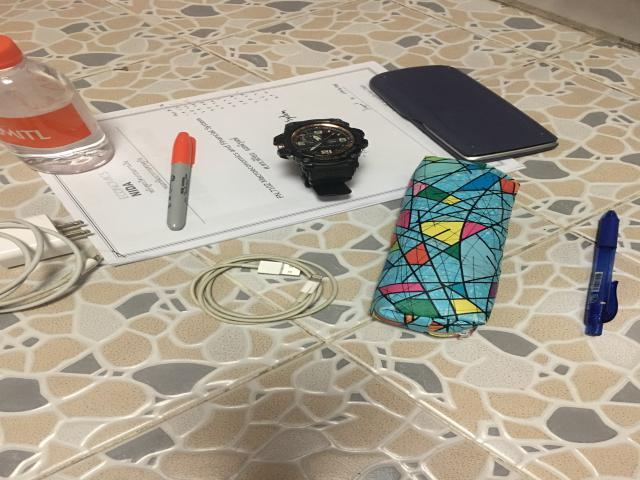Pen: (167, 132, 195, 231)
Watch: (273, 118, 368, 196)
bottle: (0, 36, 113, 173)
paper: (7, 62, 530, 265)
wire: (190, 254, 338, 324), (0, 215, 102, 312)
